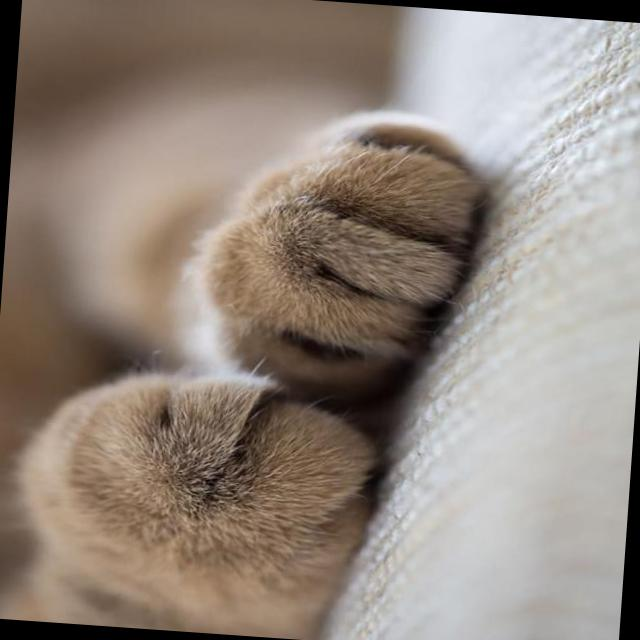Healthy skin: (93, 430, 273, 572), (275, 147, 421, 306), (213, 237, 272, 308)
